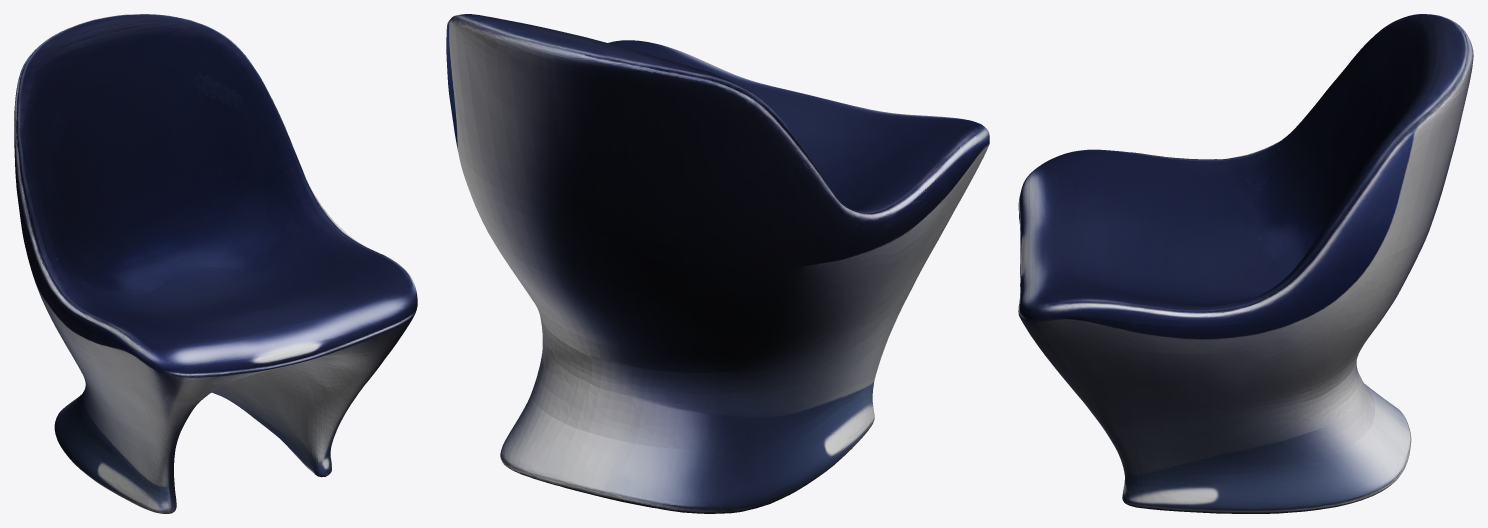
Rendered from futuristic_glossy_blue_chair.glb.
3 views of the same model, side by side, from view 1: azimuth 30°, elevation 25°; view 2: azimuth 150°, elevation 25°; view 3: azimuth 270°, elevation 25° (orthographic). The views are drawn at different scales.
Visible parts, largest first — view 1: Furniutre chair 2_0; view 2: Furniutre chair 2_0; view 3: Furniutre chair 2_0.
Part boxes in pixels (bbox=[...]): Furniutre chair 2_0: bbox=[14, 14, 417, 513]; Furniutre chair 2_0: bbox=[446, 14, 989, 513]; Furniutre chair 2_0: bbox=[1018, 14, 1473, 513].
Bounding box in the file's own units: 0.8264 × 0.9999 × 0.9948.
1 material, 1 textured.
